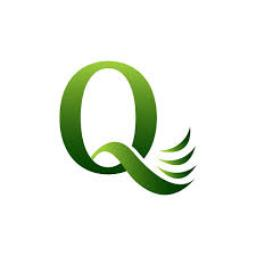q: (51, 54, 199, 196)
